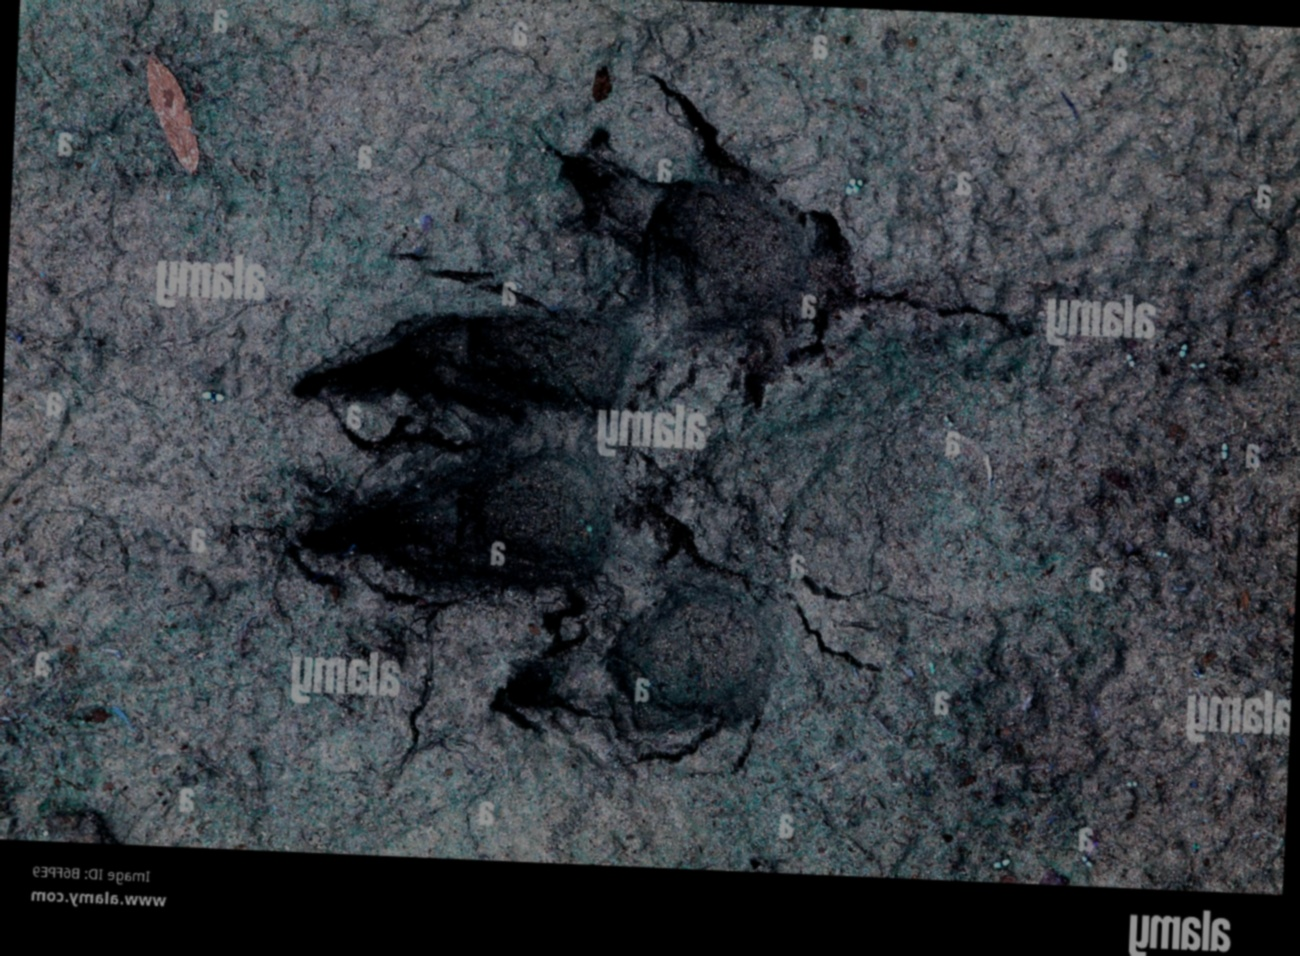loup: (255, 3, 1061, 794)
